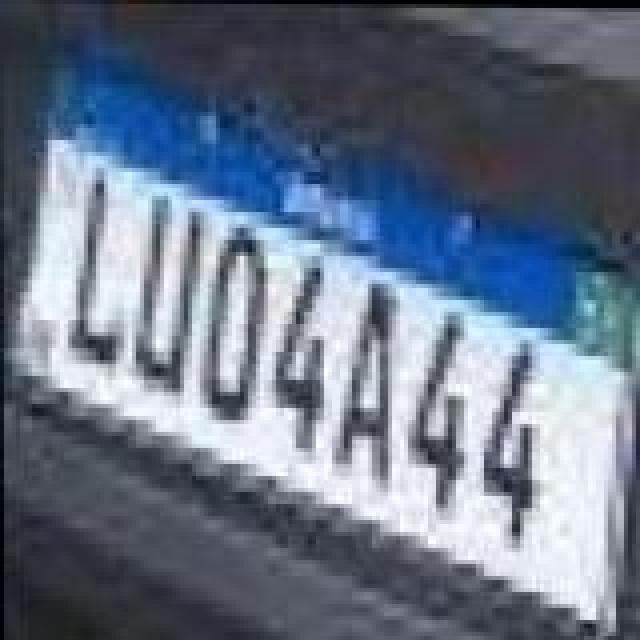4: (474, 342, 538, 550), (402, 310, 466, 518), (268, 254, 328, 458)
A: (332, 272, 400, 488)
L: (68, 170, 128, 370)
O: (198, 220, 270, 424)
U: (132, 186, 208, 394)
